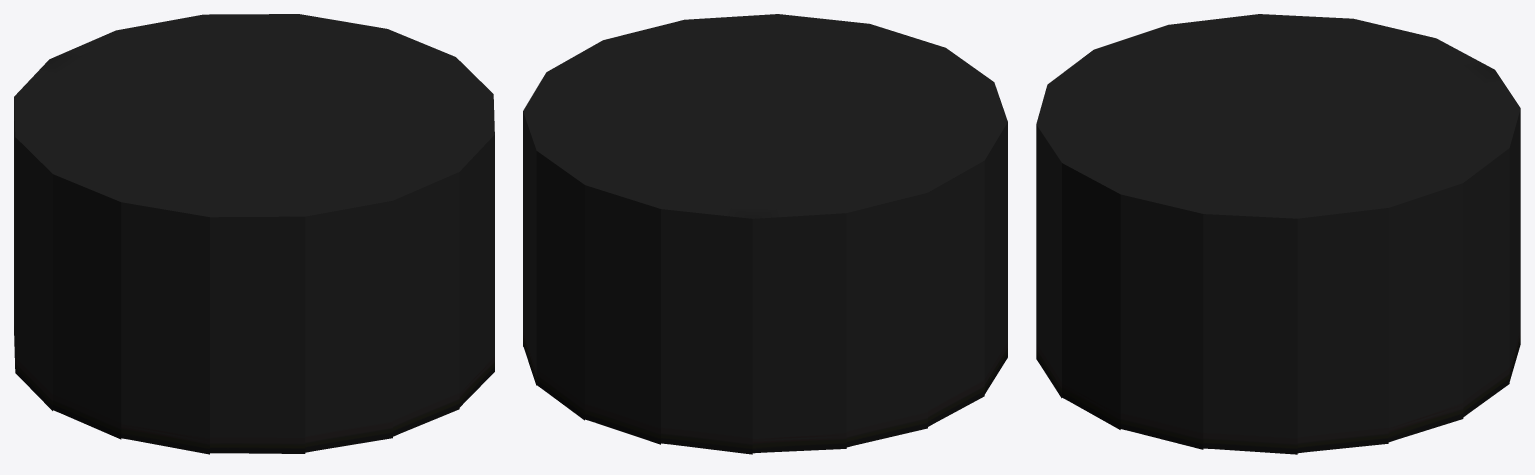
File: MemoriaTimeInterval.glb
3 renders of one model, left to right at view 1: azimuth 30°, elevation 25°; view 2: azimuth 150°, elevation 25°; view 3: azimuth 270°, elevation 25°, orthographic.
Parts seen in each view (by area): view 1: Skybox; view 2: Skybox; view 3: Skybox.
Part boxes in pixels (x1=…): Skybox: x1=14, y1=14, x2=494, y2=454; Skybox: x1=523, y1=14, x2=1007, y2=454; Skybox: x1=1036, y1=14, x2=1520, y2=454.
Bounding box in the file's own units: 249 × 138 × 249.
Materials: 10 (8 with a texture image).
